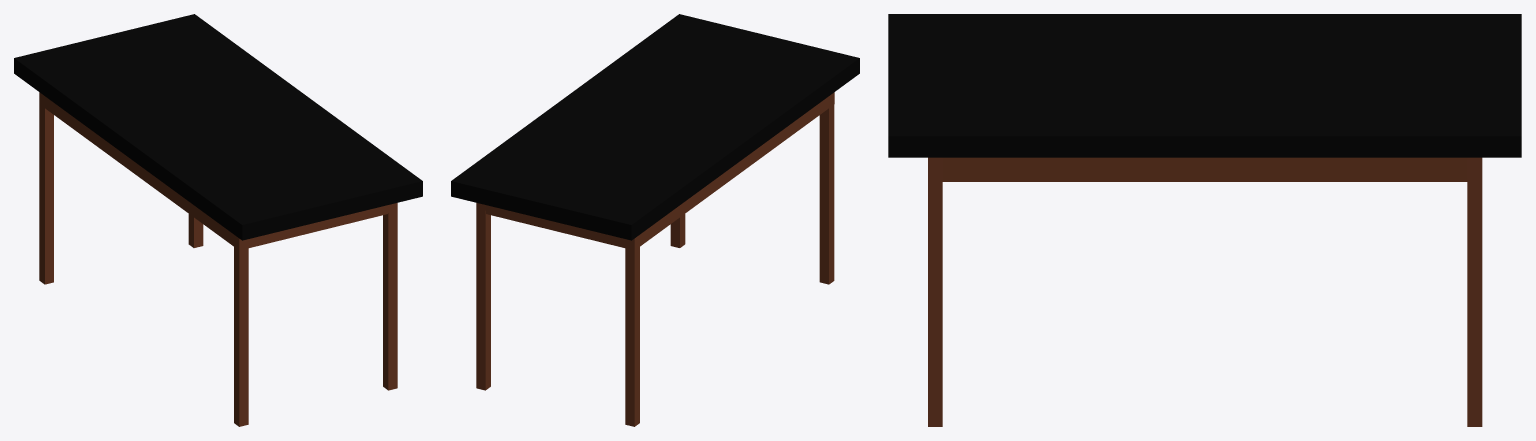
The model's file is laboratoryTable.obj.
3 views of the same model, side by side, from view 1: azimuth 30°, elevation 25°; view 2: azimuth 150°, elevation 25°; view 3: azimuth 270°, elevation 25° (orthographic). The views are drawn at different scales.
Visible parts, largest first — view 1: Cube; view 2: Cube; view 3: Cube.
Boxes of the visible parts, box(x1,y1,x2,y2) form: Cube: box(14, 14, 422, 426); Cube: box(451, 14, 859, 426); Cube: box(888, 14, 1521, 426).
Size of the model in its own units: 0.9138 by 1.04 by 2.
